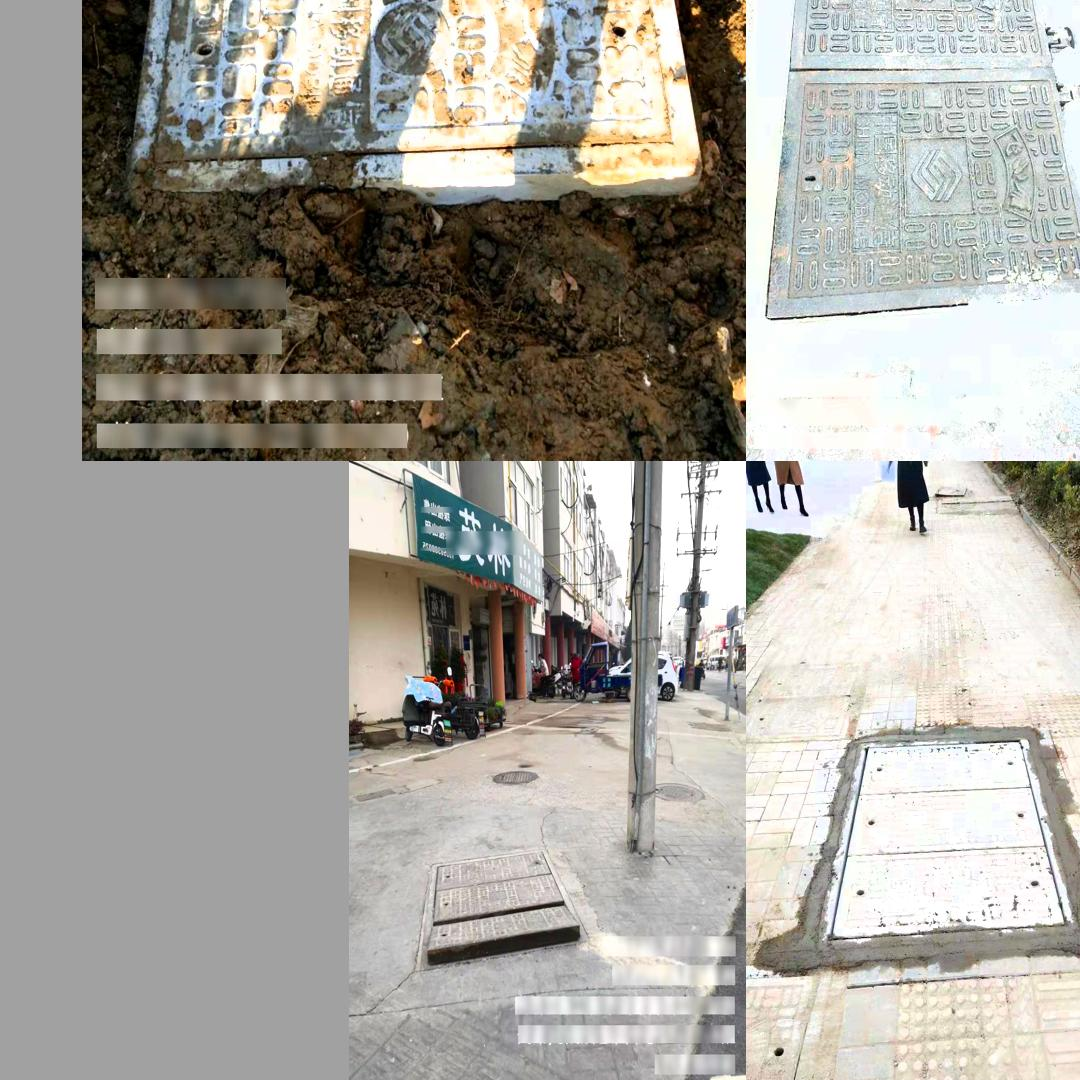good: (761, 0, 1080, 321), (190, 0, 690, 163), (835, 741, 1067, 928), (489, 769, 540, 788)
uncovered: (421, 846, 590, 967)
